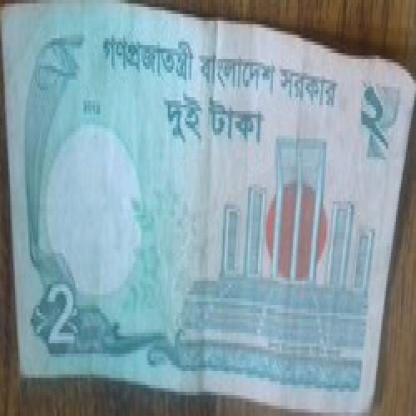two taka: (43, 277, 85, 357), (354, 76, 388, 146)
